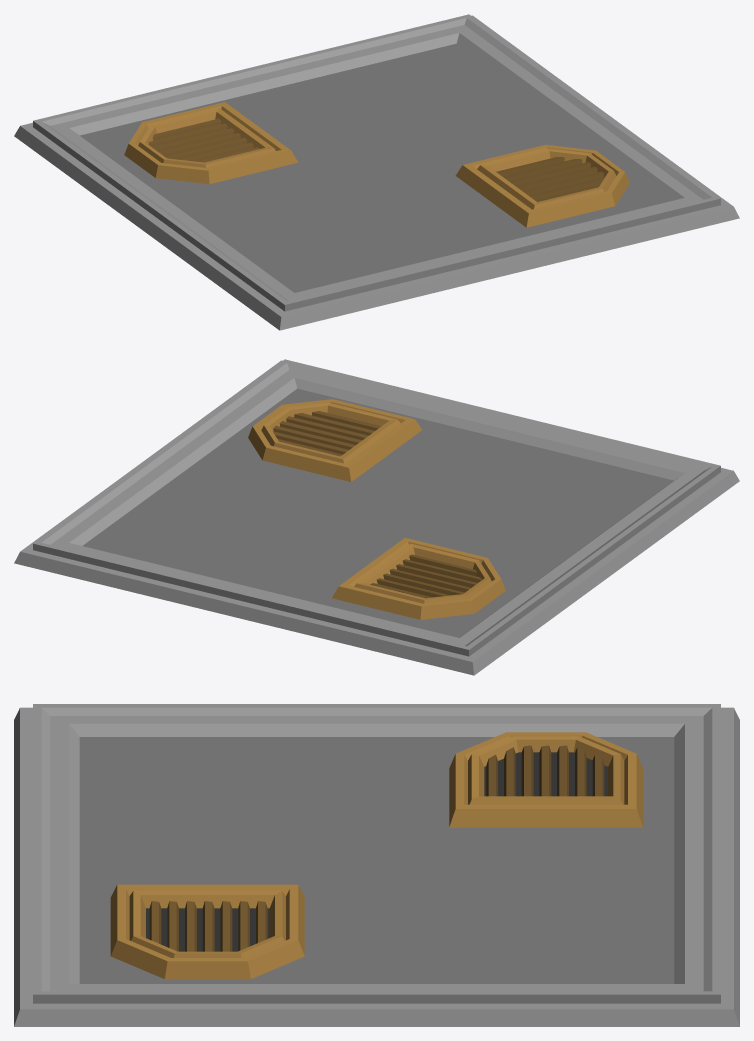
The picture shows the model from 3 angles, top to bottom: view 1: azimuth 30°, elevation 25°; view 2: azimuth 150°, elevation 25°; view 3: azimuth 270°, elevation 25°; orthographic projection. The views are drawn at different scales.
Parts seen in each view (by area): view 1: RoofTile_SmallVents; view 2: RoofTile_SmallVents; view 3: RoofTile_SmallVents.
Boxes of the visible parts, bbox=[...] form: RoofTile_SmallVents: bbox=[14, 14, 739, 330]; RoofTile_SmallVents: bbox=[14, 359, 739, 675]; RoofTile_SmallVents: bbox=[14, 704, 739, 1026].
Bounding box in the file's own units: 2 × 0.0907 × 2.
